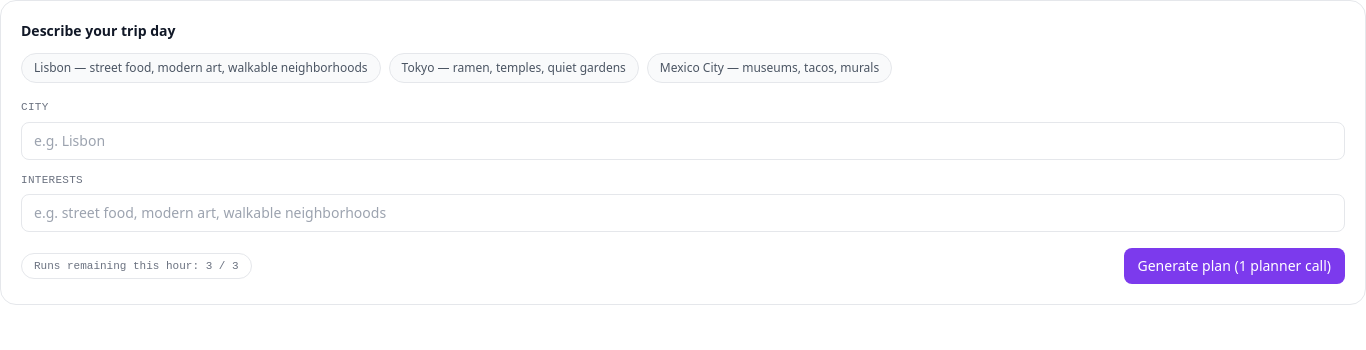
the goal form › rejects a submission missing the city or the interests
Click the button "Generate plan (1 planner call)" at (1234, 266), box [1124, 248, 1345, 284]
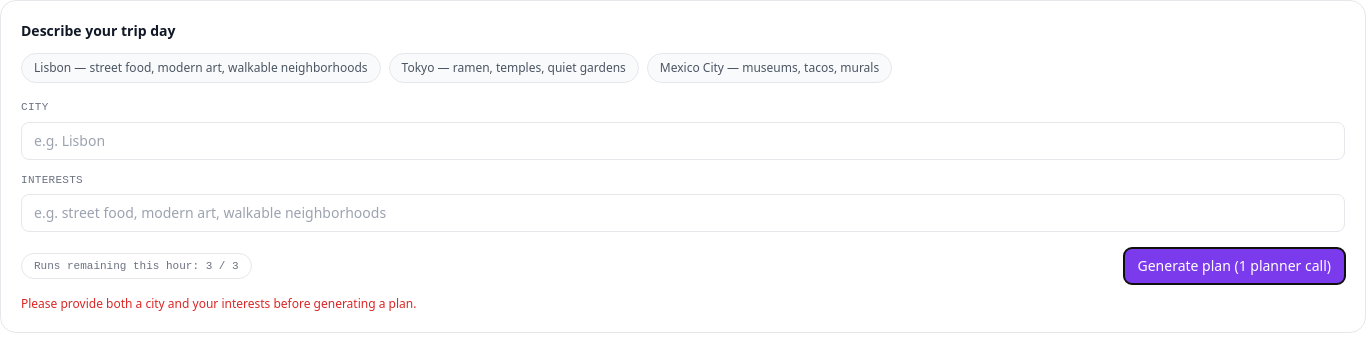
Expected: the message shows "both a city and your interests", [21, 295, 416, 312]
